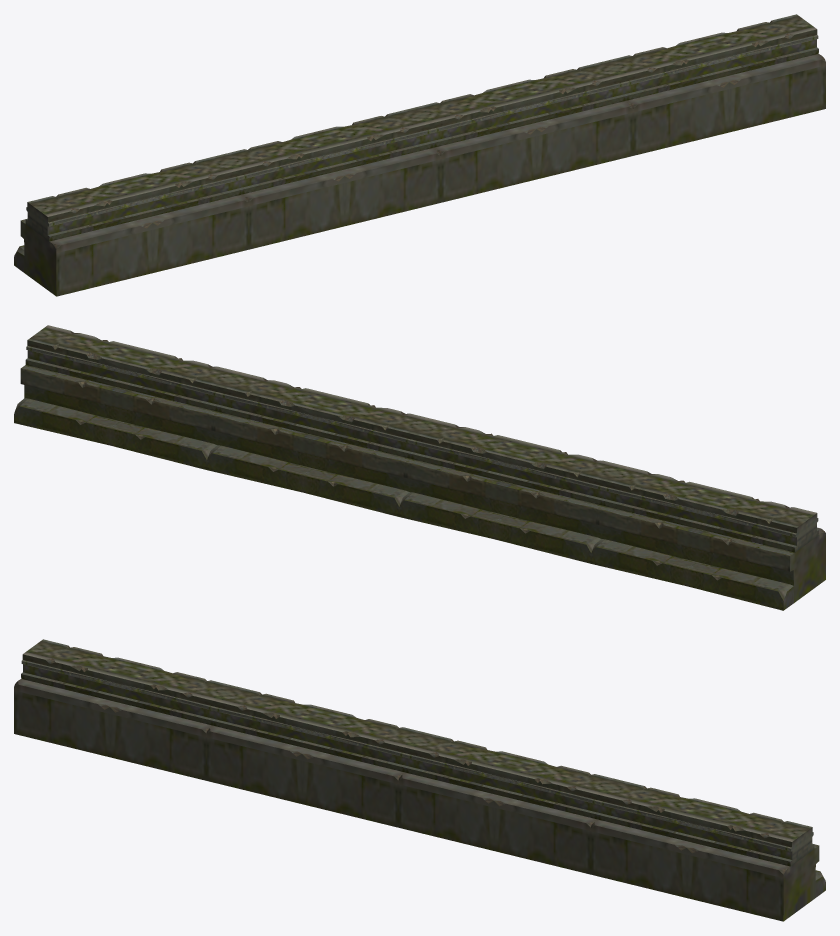
File: S2_Build_XSC071.FBX
The picture shows the model from 3 angles, top to bottom: view 1: azimuth 30°, elevation 25°; view 2: azimuth 150°, elevation 25°; view 3: azimuth 330°, elevation 25°; orthographic projection.
Parts seen in each view (by area): view 1: S2_Build_XSC071; view 2: S2_Build_XSC071; view 3: S2_Build_XSC071.
Part boxes in pixels (box(x1,y1,x2,y2)): S2_Build_XSC071: box(14, 14, 825, 296); S2_Build_XSC071: box(14, 325, 825, 610); S2_Build_XSC071: box(14, 639, 825, 921).
Size of the model in its own units: 459 by 41.91 by 43.88.
